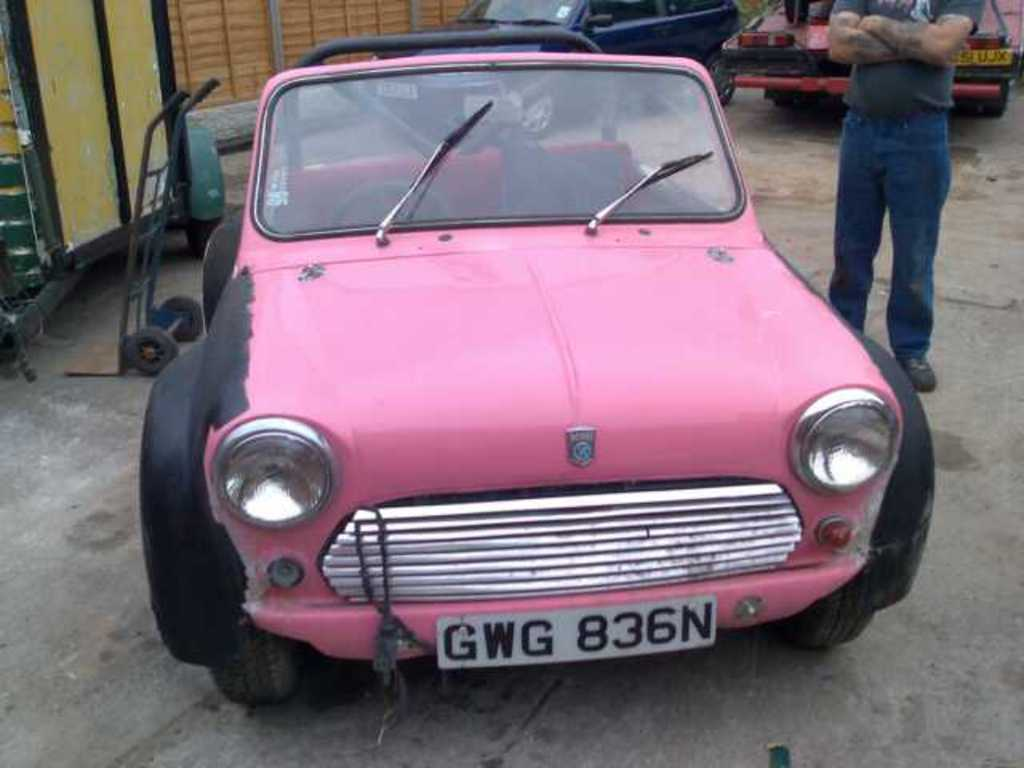Car: (128, 14, 932, 710), (371, 0, 737, 97)
